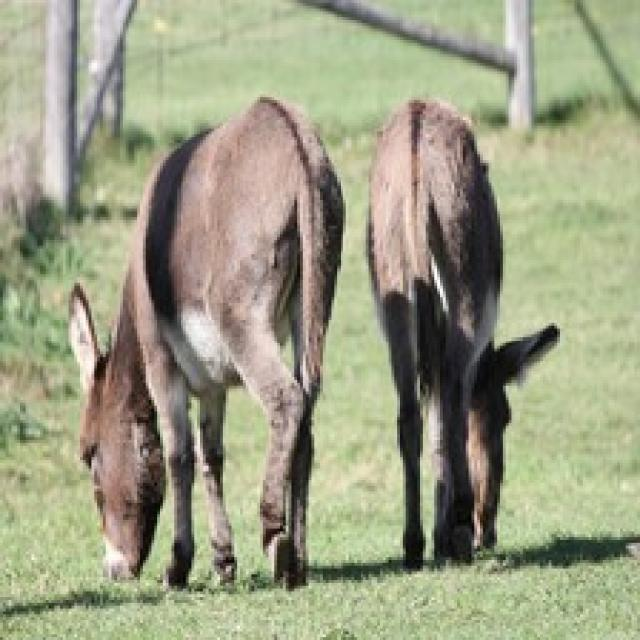Donkey: (36, 52, 338, 627), (340, 59, 574, 582)
